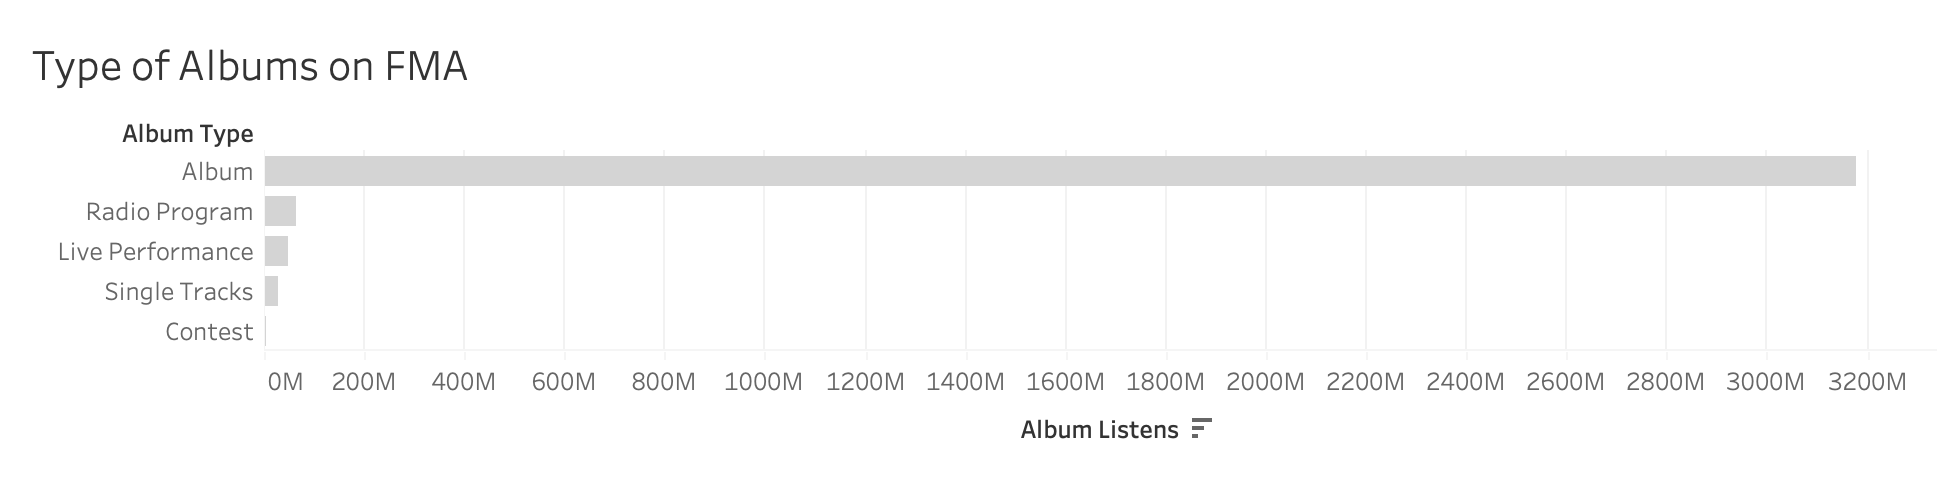

Layout of this report page (visuals, bound fields, positions):
{"tool":"tableau","page":{"name":"Dashboard 1 (2)","canvas":[1600,900],"ordinal":1},"visuals":[{"type":"worksheet","title":"Sheet 1","mark":"Automatic","box":[8,8,1584,884]}]}

Visuals, with their boxes on the page's 1600x900 design canvas (x1, y1, x2, y2). These are canvas units, not pixel positions in the 1960x498 screenshot, which may show the page scaled, cropped or inside an application window:
"Sheet 1" worksheet: (left=8, top=8, right=1592, bottom=892)
